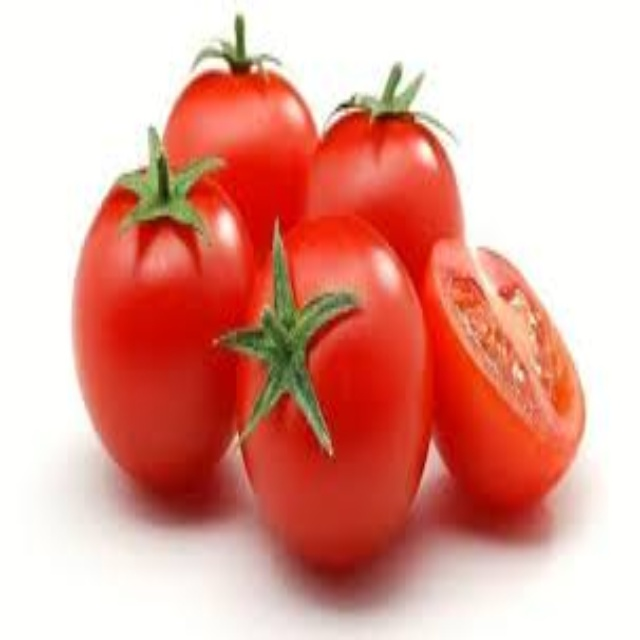tomato: (233, 222, 425, 566), (70, 158, 263, 498), (412, 238, 578, 515), (160, 12, 321, 242), (310, 57, 469, 276)
